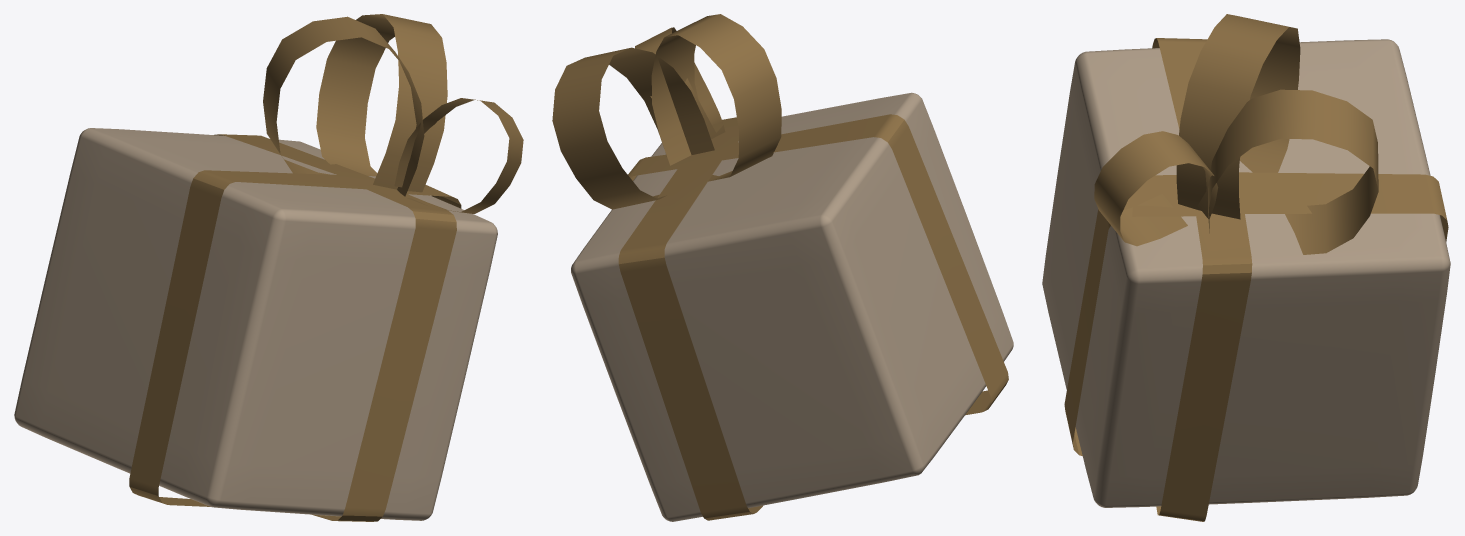
The model's file is regalo1.fbx.
The picture shows the model from 3 angles, left to right: view 1: azimuth 30°, elevation 25°; view 2: azimuth 150°, elevation 25°; view 3: azimuth 270°, elevation 25°; orthographic projection. The views are drawn at different scales.
Parts seen in each view (by area): view 1: pCube7, pPlane24; view 2: pCube7, pPlane24; view 3: pCube7, pPlane24.
Part boxes in pixels (x1,y1,x2,y2): pCube7: (14, 128, 497, 520); pPlane24: (129, 14, 523, 521); pCube7: (571, 92, 1013, 521); pPlane24: (552, 14, 1008, 520); pCube7: (1042, 39, 1450, 507); pPlane24: (1064, 14, 1448, 521).
Size of the model in its own units: 2.48 by 2.74 by 2.05.
